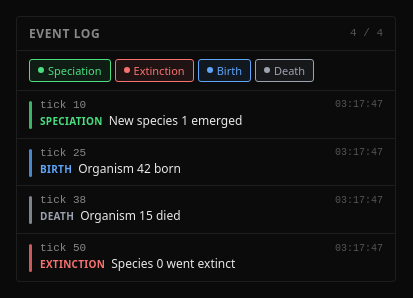
Scenario: EventLog › filters events by type
Click the button "Speciation": (70, 70) [29,59,111,82]
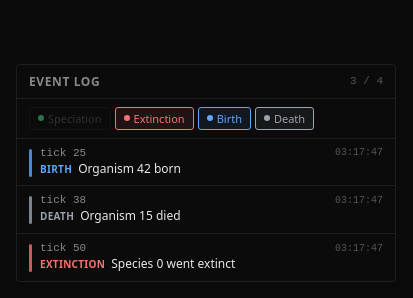
Expected: the text "Organism 42 born" is shown, [78,160,181,177]
Now the text "New species 1 emerged" is gone
